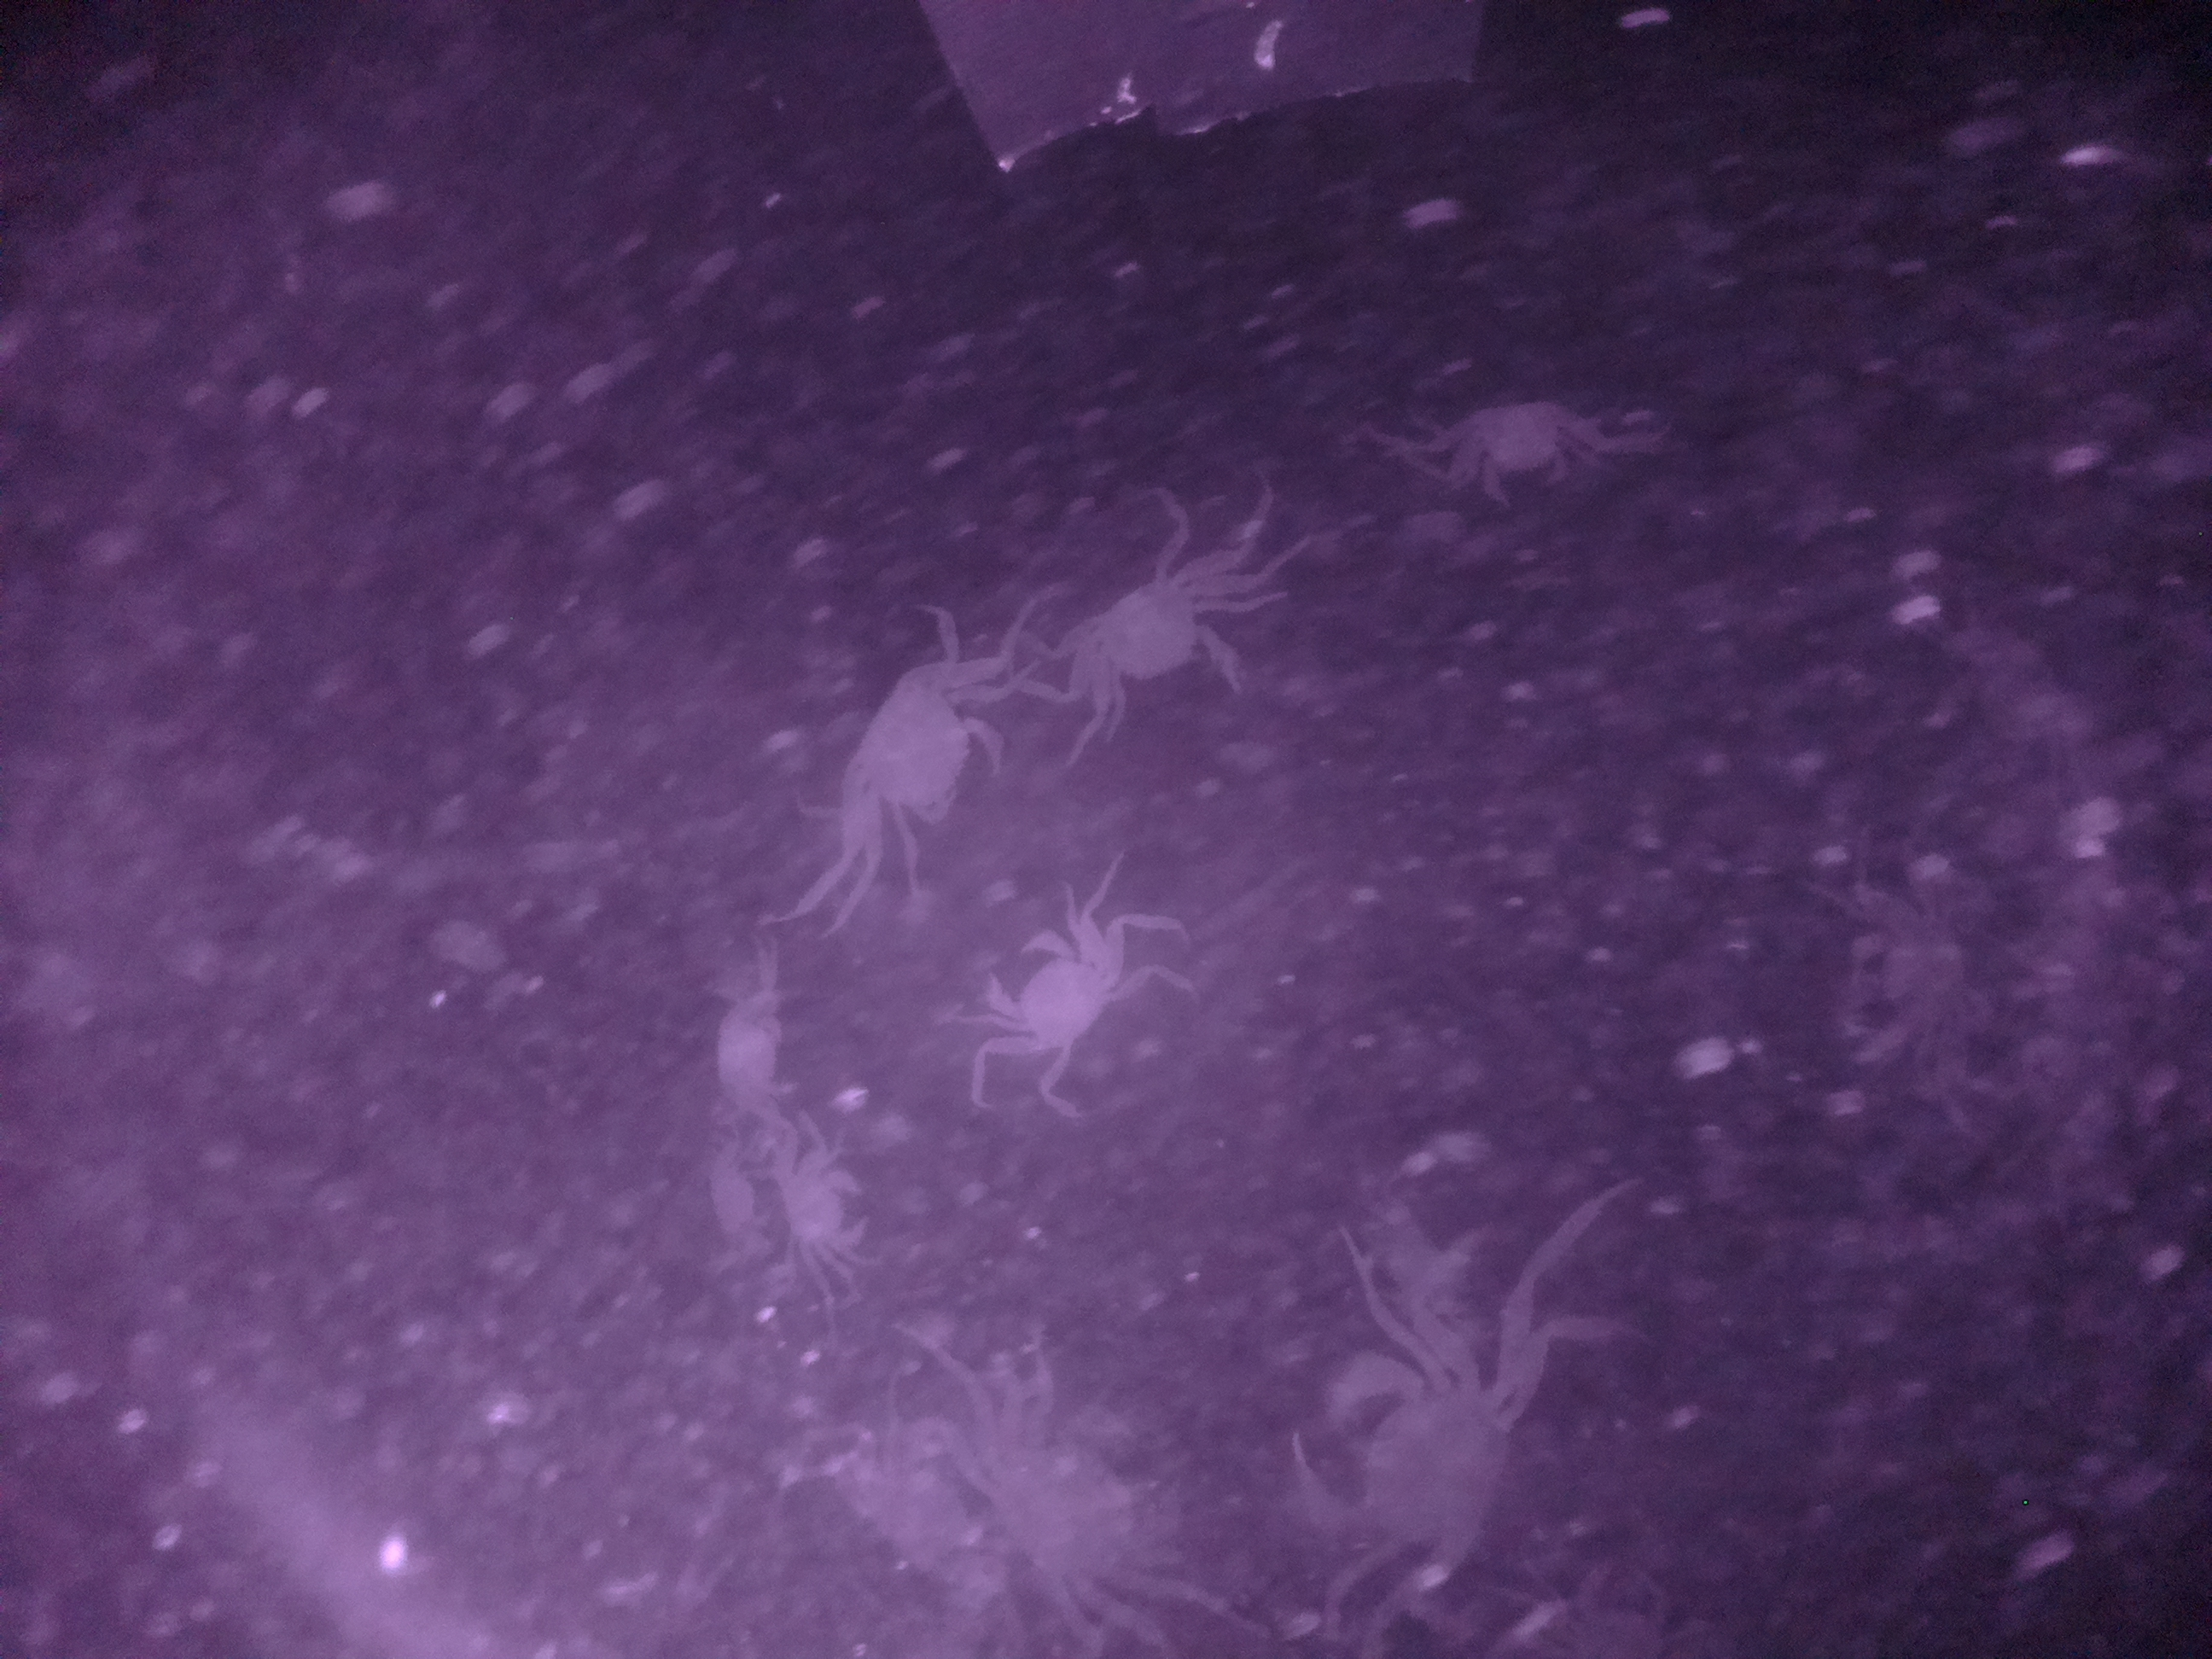Crab: (1043, 547, 1245, 735), (824, 640, 984, 852), (970, 917, 1132, 1077), (1439, 373, 1599, 516), (765, 1122, 885, 1281)
